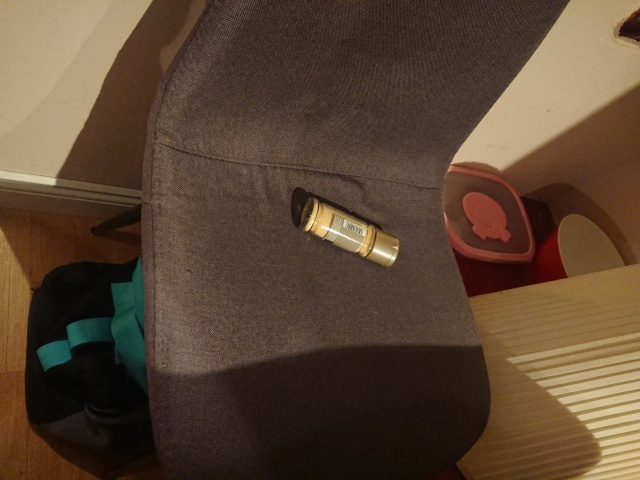Kotanyi Garlic Granules 70g: (296, 194, 401, 270)
